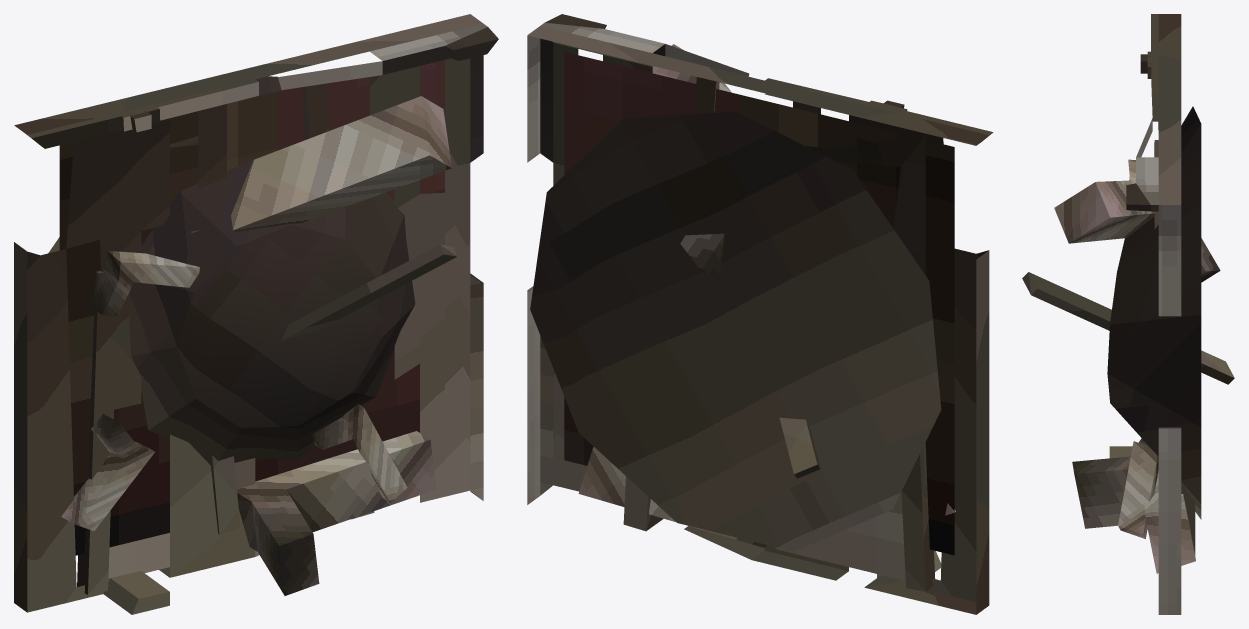
Rendered from 148_floor_bigpile.gltf.
3 views of the same model, side by side, from view 1: azimuth 30°, elevation 25°; view 2: azimuth 150°, elevation 25°; view 3: azimuth 270°, elevation 25° (orthographic). The views are drawn at different scales.
Visible parts, largest first — view 1: floor_bigpile; view 2: floor_bigpile; view 3: floor_bigpile.
Part boxes in pixels (bbox=[...]): floor_bigpile: bbox=[14, 14, 498, 614]; floor_bigpile: bbox=[527, 14, 993, 614]; floor_bigpile: bbox=[1022, 14, 1234, 614].
Size of the model in its own units: 74.36 by 74.91 by 34.99.
1 material, 1 textured.
